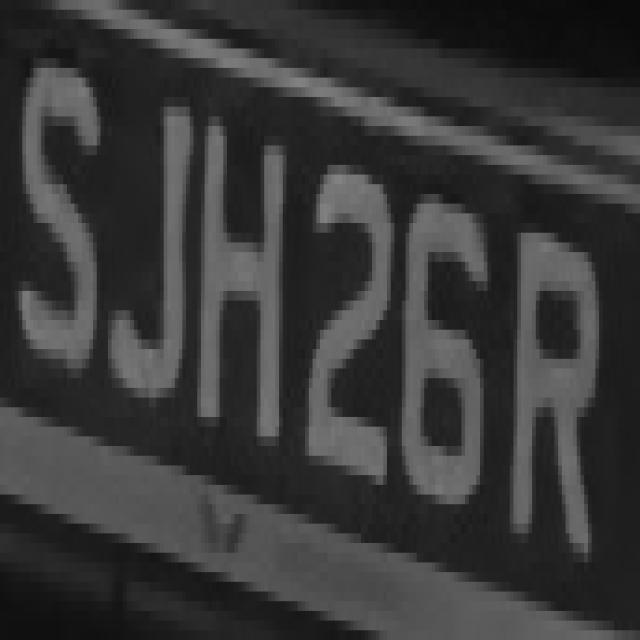2: (309, 155, 402, 524)
6: (402, 116, 491, 514)
H: (190, 39, 290, 475)
J: (119, 39, 194, 426)
R: (510, 165, 599, 572)
S: (11, 29, 119, 427)
